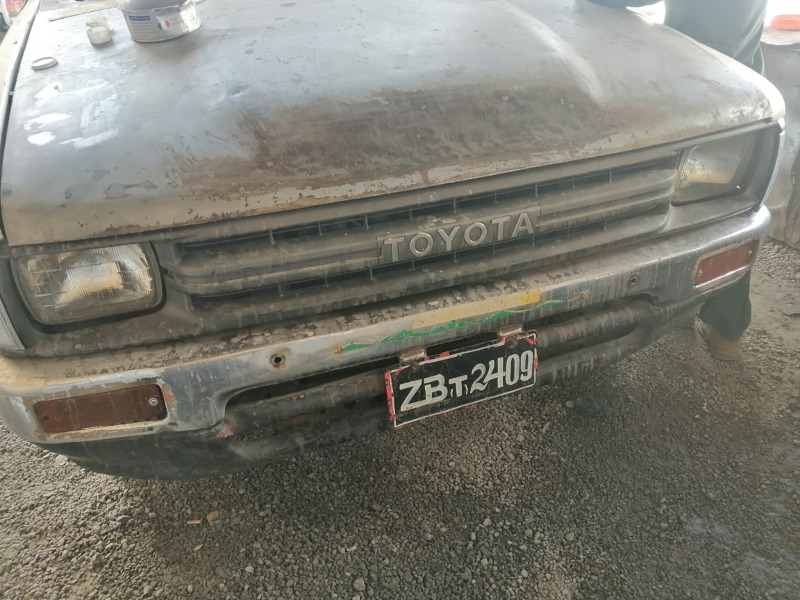License Plate: (380, 330, 542, 431)
